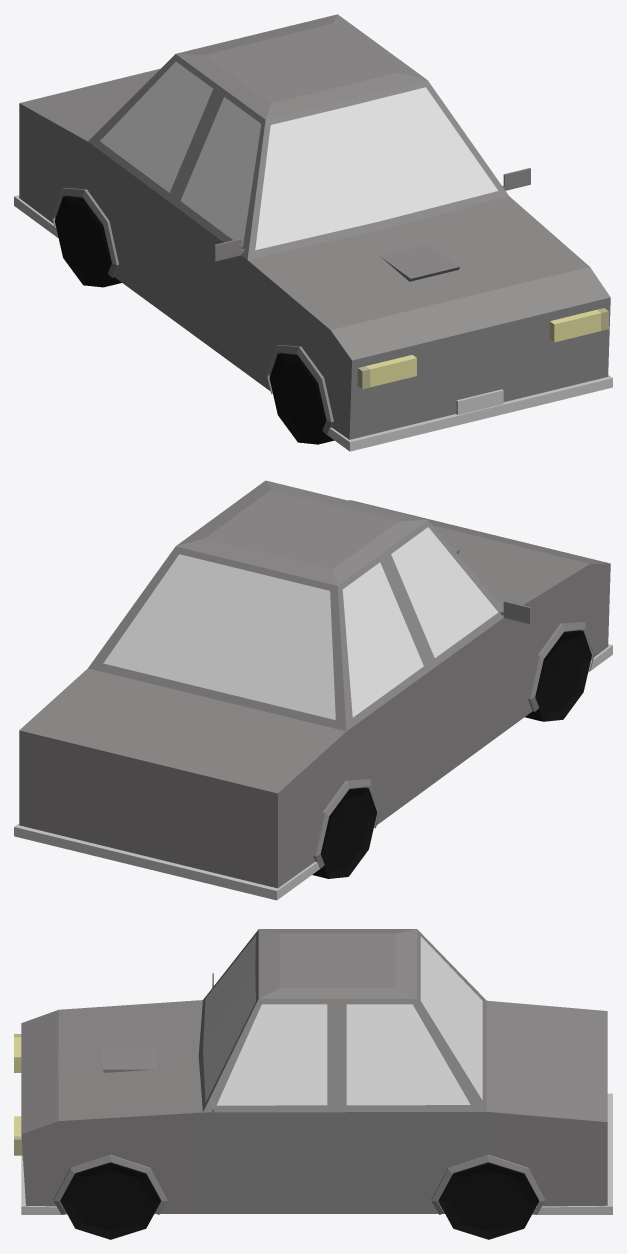
The model's file is carro.fbx.
The picture shows the model from 3 angles, top to bottom: view 1: azimuth 30°, elevation 25°; view 2: azimuth 150°, elevation 25°; view 3: azimuth 270°, elevation 25°; orthographic projection. The views are drawn at different scales.
Parts seen in each view (by area): view 1: Carro; view 2: Carro; view 3: Carro.
Boxes of the visible parts, <box> form: Carro: <box>14,14,612,451</box>; Carro: <box>14,480,612,900</box>; Carro: <box>14,929,612,1239</box>.
Bounding box in the file's own units: 181 × 138 × 338.
